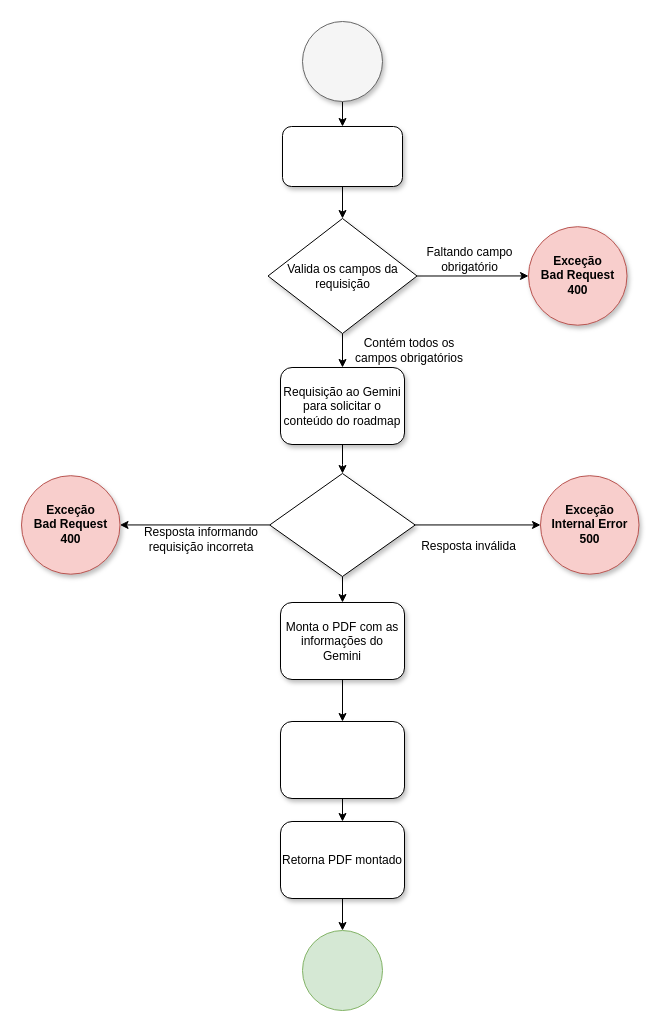
The diagram is 663 pixels wide and 1028 high, and some of its shapes have lost their labels. Here are the shapes that lost their labels. From the top down, the centre of each, then its label:
At [343,158]: "Recebe a requisição".
At [343,526]: "Valida resposta do Gemini".
At [343,761]: "Salva Log no banco de dados indicando horário, requisição e resposta".
